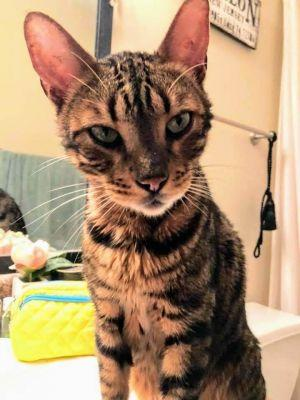bengal: (20, 1, 219, 221)
